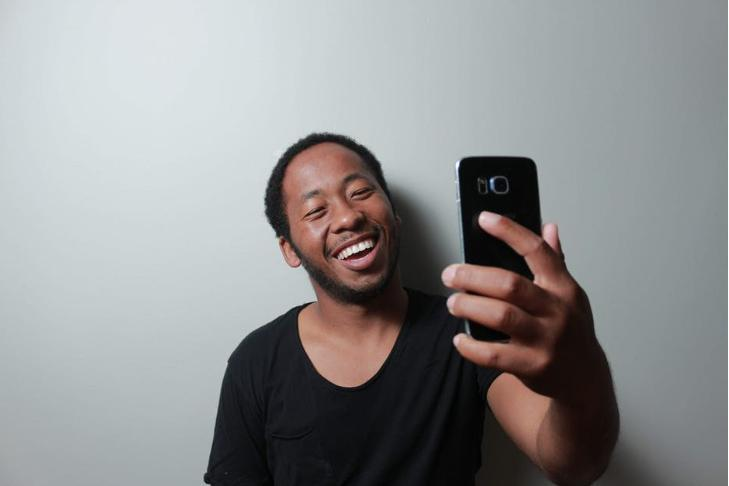face: (284, 141, 399, 295)
